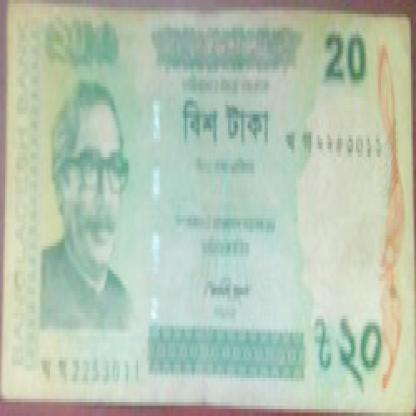Twenty: (166, 93, 288, 170), (312, 298, 390, 378), (38, 3, 122, 73), (315, 28, 376, 97)
